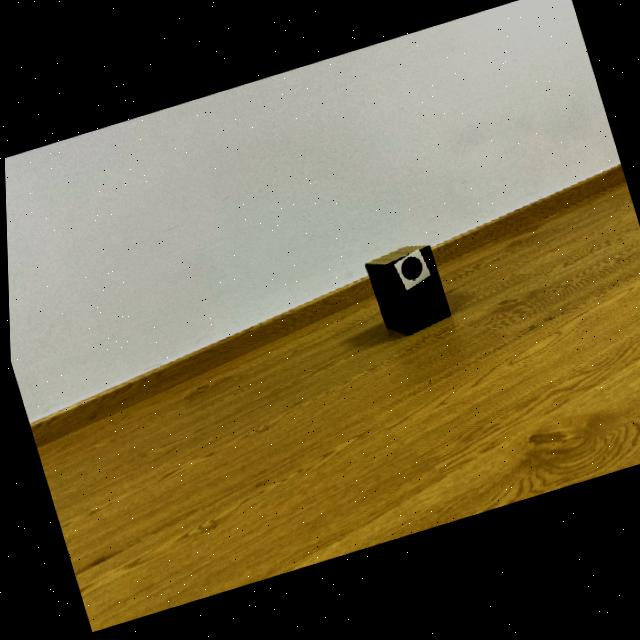CIRCLE: (399, 260, 421, 283)
